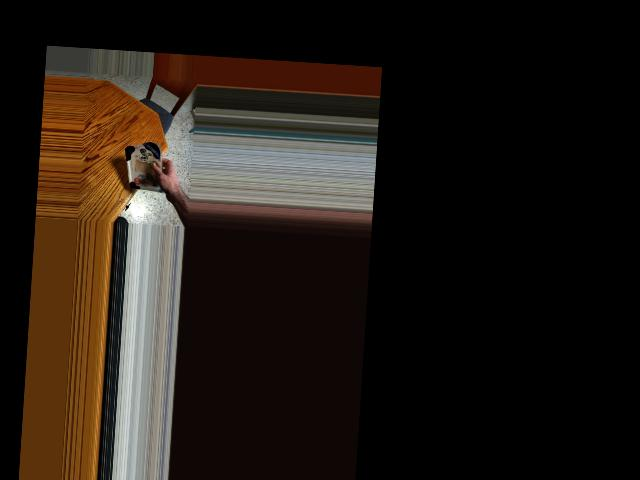cheese: (122, 139, 170, 194)
